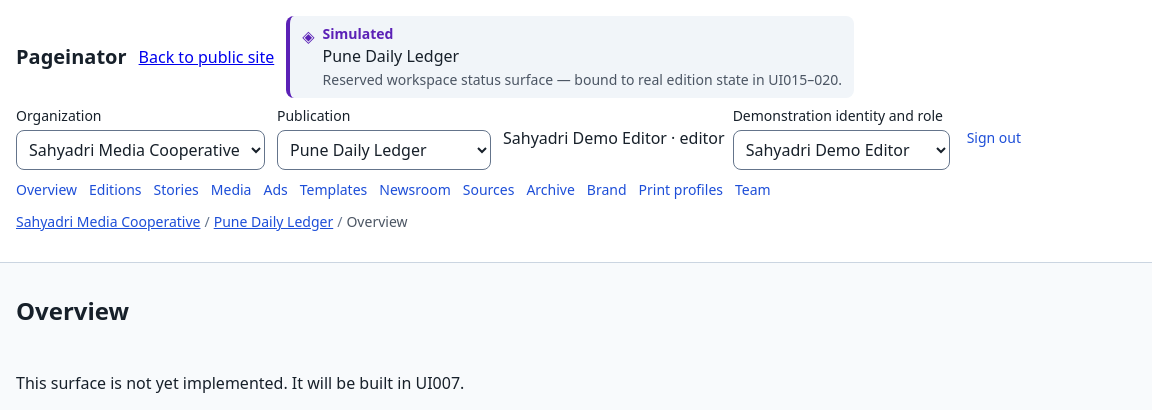
UI004 protected access › switches organizations to the grant's canonical publication and role
This screenshot has width=1152, height=410.
Select "Konkan Coastal Press" in the dropdown labelled "Organization" at (140, 150), box [16, 130, 265, 170]
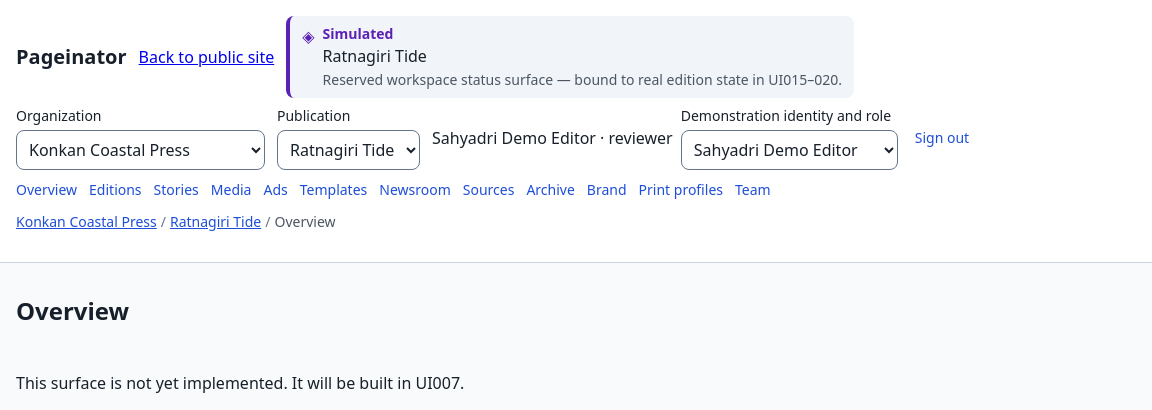
Check: the heading "Overview" is shown, box [16, 294, 129, 327]
Check: the text "reviewer" is shown, box [609, 127, 673, 149]
